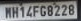character: (11, 5, 18, 18), (60, 3, 67, 16), (4, 6, 11, 18), (25, 5, 32, 17), (32, 4, 39, 16), (46, 4, 53, 16), (53, 4, 60, 16), (67, 3, 74, 15), (19, 5, 25, 18), (39, 5, 46, 16)
